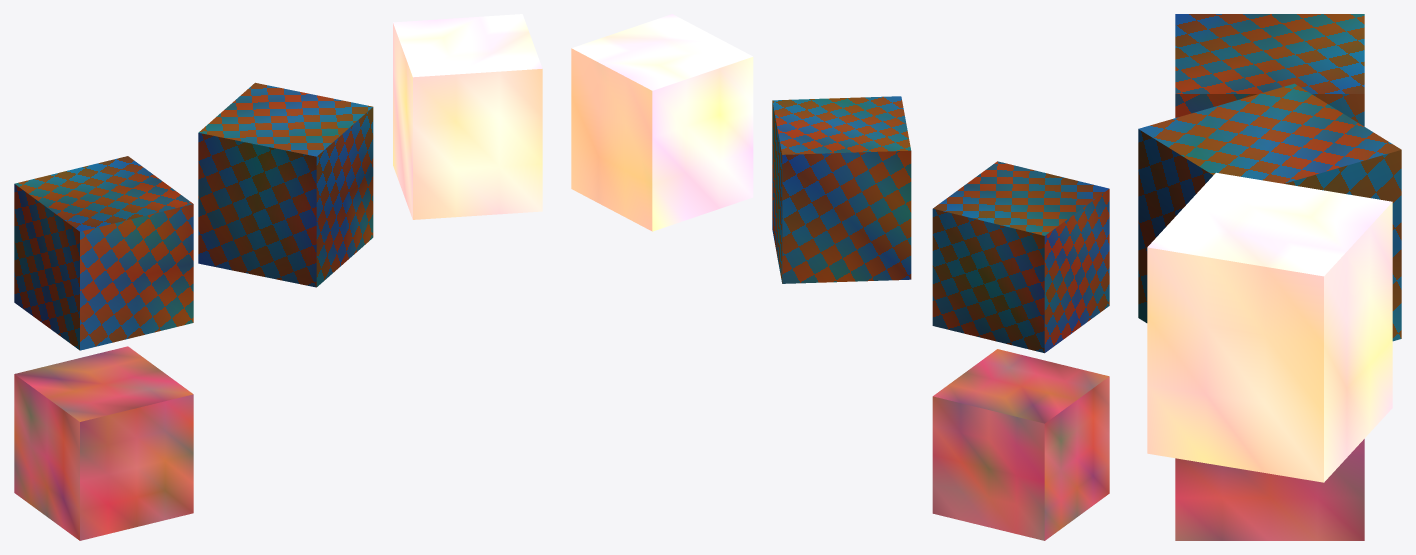
Rendered from draco-roundtrip-source.glb.
3 renders of one model, left to right at view 1: azimuth 30°, elevation 25°; view 2: azimuth 150°, elevation 25°; view 3: azimuth 270°, elevation 25°, orthographic. The views are drawn at different scales.
Visible parts, largest first — view 1: Drive (×2), Sensor, Frame; view 2: Drive (×2), Sensor, Frame; view 3: Drive (×2), Frame, Sensor.
Boxes of the visible parts, x1,y1,x2,y2 form: Drive (×2): (198,14,542,287); Sensor: (14,346,193,540); Frame: (14,156,193,350); Drive (×2): (571,14,911,283); Sensor: (932,349,1109,540); Frame: (932,161,1109,353); Drive (×2): (1138,83,1401,482); Frame: (1175,14,1364,126); Sensor: (1175,439,1364,540).
Bounding box in the file's own units: 10.87 × 7.75 × 3.47.
3 materials, 1 textured.
